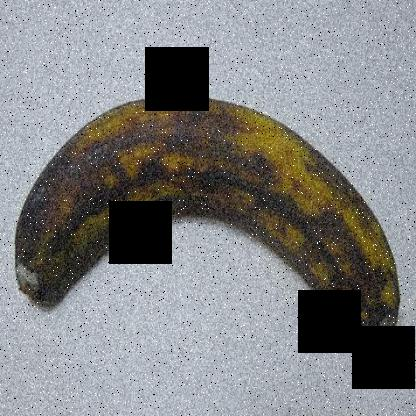overripe: (5, 73, 406, 366)
